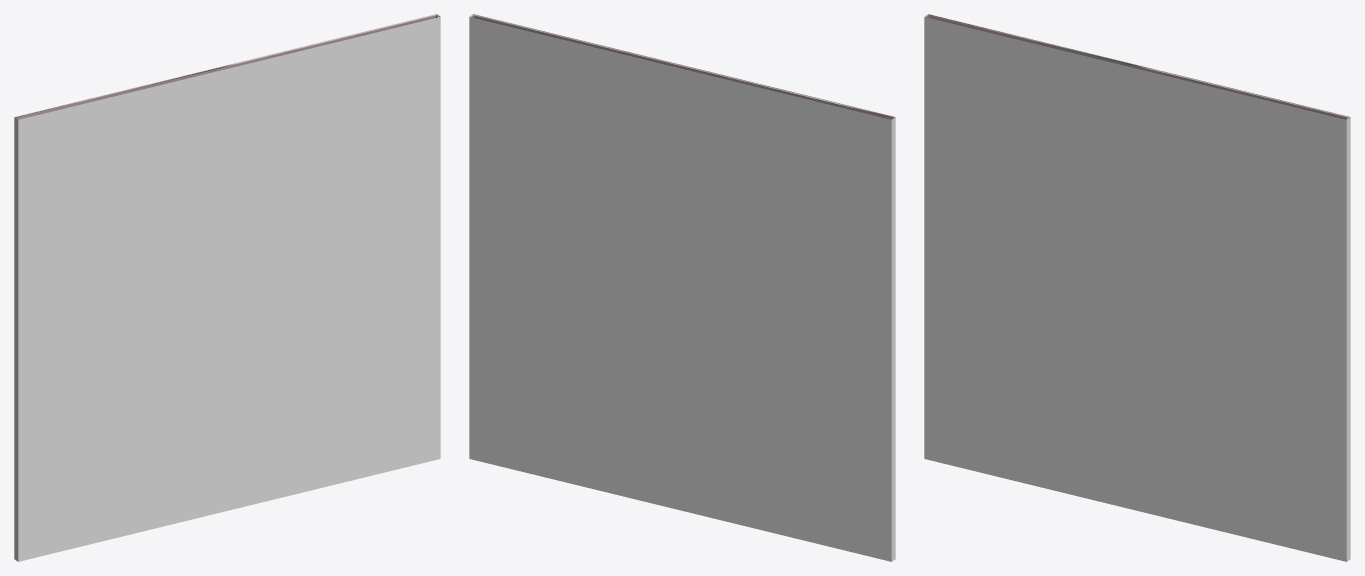
File: sleeve_v2.glb
3 renders of one model, left to right at view 1: azimuth 30°, elevation 25°; view 2: azimuth 150°, elevation 25°; view 3: azimuth 330°, elevation 25°, orthographic.
Visible parts, largest first — view 1: Shrinkwrap, Vinyl Sleeve; view 2: Shrinkwrap, Vinyl Sleeve; view 3: Shrinkwrap, Vinyl Sleeve.
Boxes of the visible parts, left/top/right/bottom form: Shrinkwrap: left=14, top=14, right=440, bottom=561; Vinyl Sleeve: left=15, top=15, right=438, bottom=119; Shrinkwrap: left=469, top=14, right=895, bottom=561; Vinyl Sleeve: left=471, top=15, right=894, bottom=119; Shrinkwrap: left=924, top=14, right=1350, bottom=561; Vinyl Sleeve: left=926, top=15, right=1349, bottom=119.
Size of the model in its own units: 0.3149 by 0.3149 by 0.00501.
Materials: 2 (1 with a texture image).
